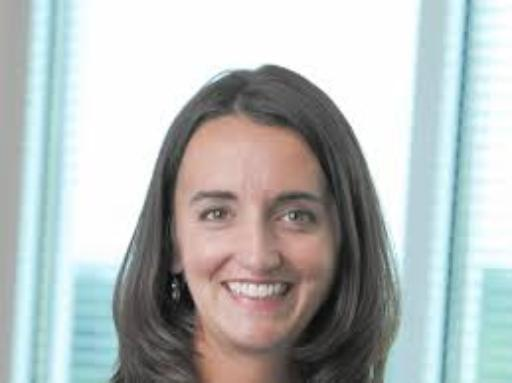left_eye: (274, 210, 321, 229)
left_lip_corner: (285, 278, 307, 295)
right_eye: (194, 208, 237, 226)
right_lip_corner: (217, 277, 234, 294)
